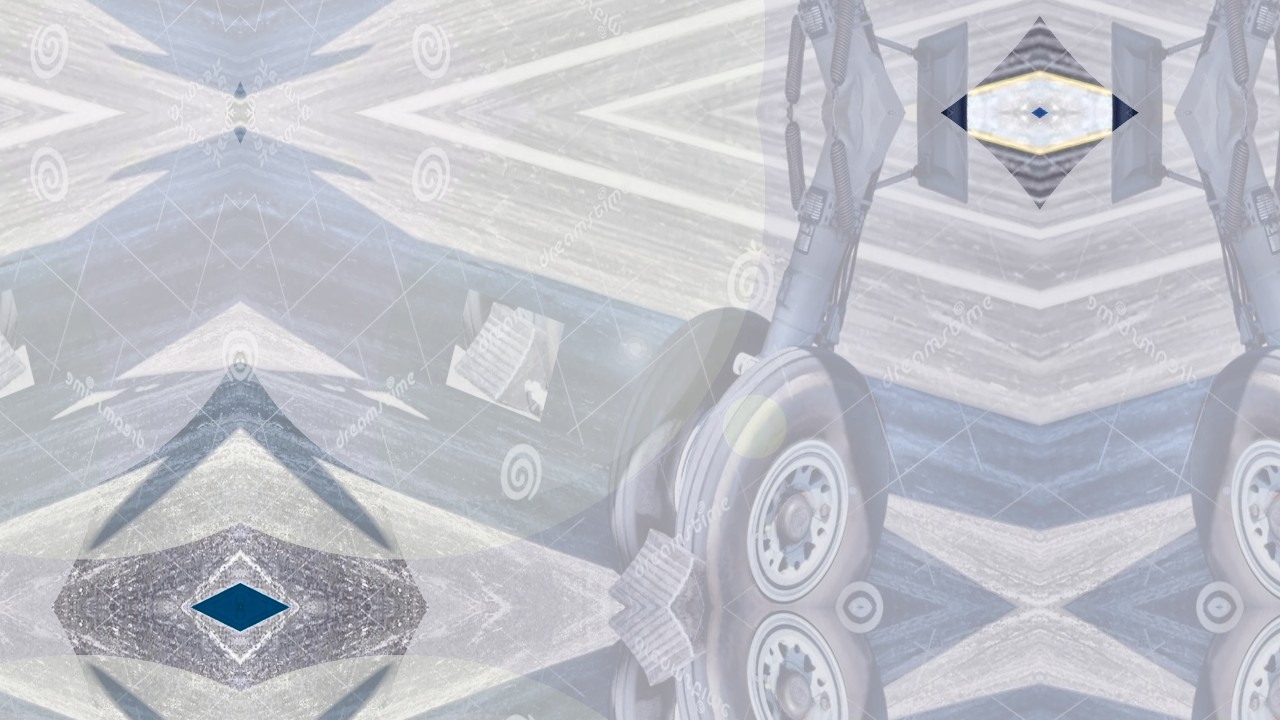chock: (445, 288, 566, 424), (599, 512, 727, 607), (599, 608, 727, 703), (0, 288, 35, 424)
wheel: (645, 311, 928, 608), (581, 274, 780, 608), (1152, 311, 1280, 608), (645, 608, 928, 720), (581, 608, 780, 720), (1152, 608, 1280, 720)
